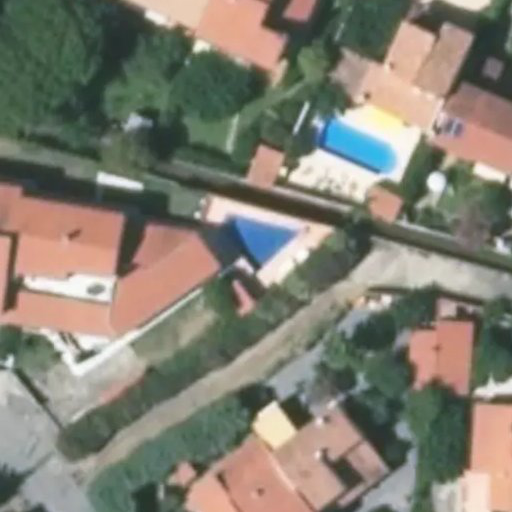pool: (205, 224, 298, 231)
